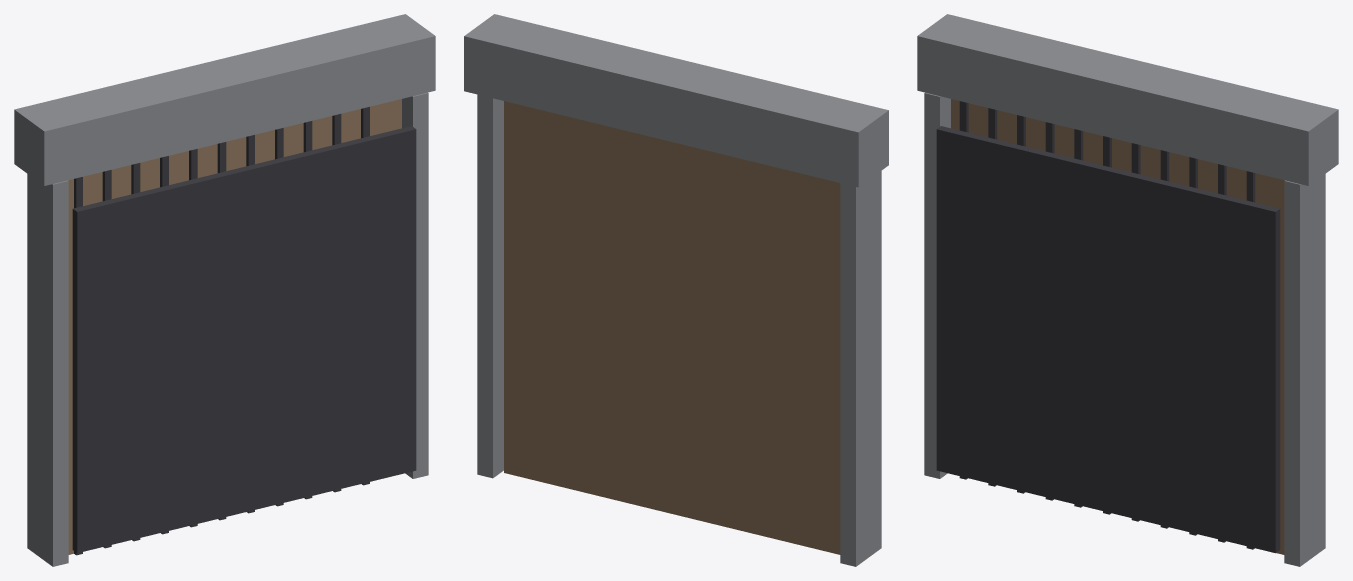
The model's file is prop_shutter_brown.glb.
The picture shows the model from 3 angles, left to right: view 1: azimuth 30°, elevation 25°; view 2: azimuth 150°, elevation 25°; view 3: azimuth 330°, elevation 25°; orthographic projection.
Parts seen in each view (by area): view 1: shutter_brown; view 2: shutter_brown; view 3: shutter_brown.
Boxes of the visible parts, box(x1,y1,x2,y2) form: shutter_brown: box(14, 14, 435, 566); shutter_brown: box(464, 14, 888, 566); shutter_brown: box(917, 14, 1338, 566).
Bounding box in the file's own units: 3 × 3.2 × 0.49.
